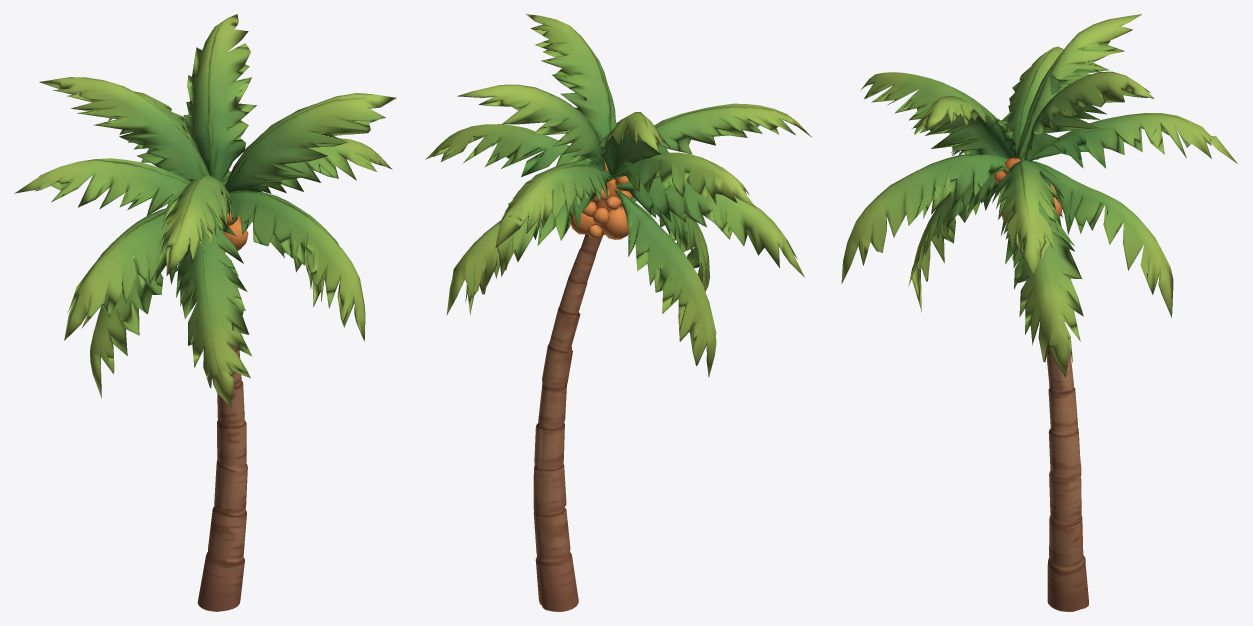
File: palm.glb
3 renders of one model, left to right at view 1: azimuth 30°, elevation 25°; view 2: azimuth 150°, elevation 25°; view 3: azimuth 270°, elevation 25°, orthographic. The views are drawn at different scales.
Parts seen in each view (by area): view 1: geometry_0; view 2: geometry_0; view 3: geometry_0.
Part boxes in pixels (x1=…): geometry_0: x1=14, y1=14, x2=396, y2=611; geometry_0: x1=425, y1=14, x2=812, y2=611; geometry_0: x1=841, y1=14, x2=1237, y2=611.
Size of the model in its own units: 0.6523 by 0.9517 by 0.6294.
1 material, 1 textured.
